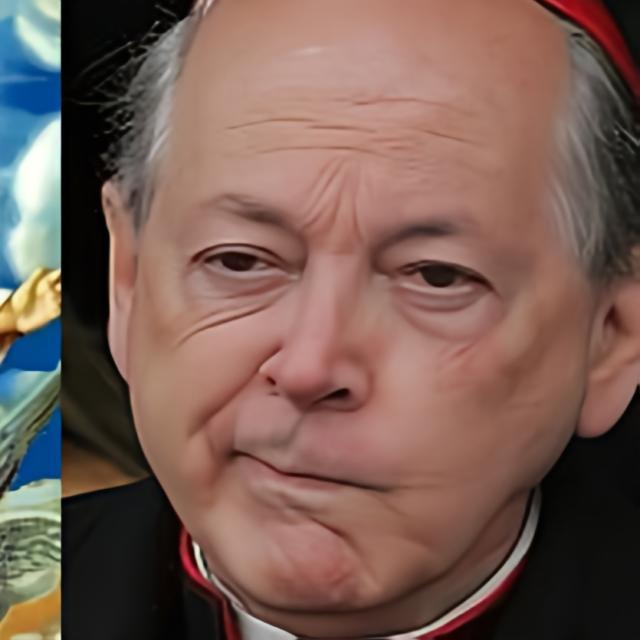content: (126, 0, 589, 606)
